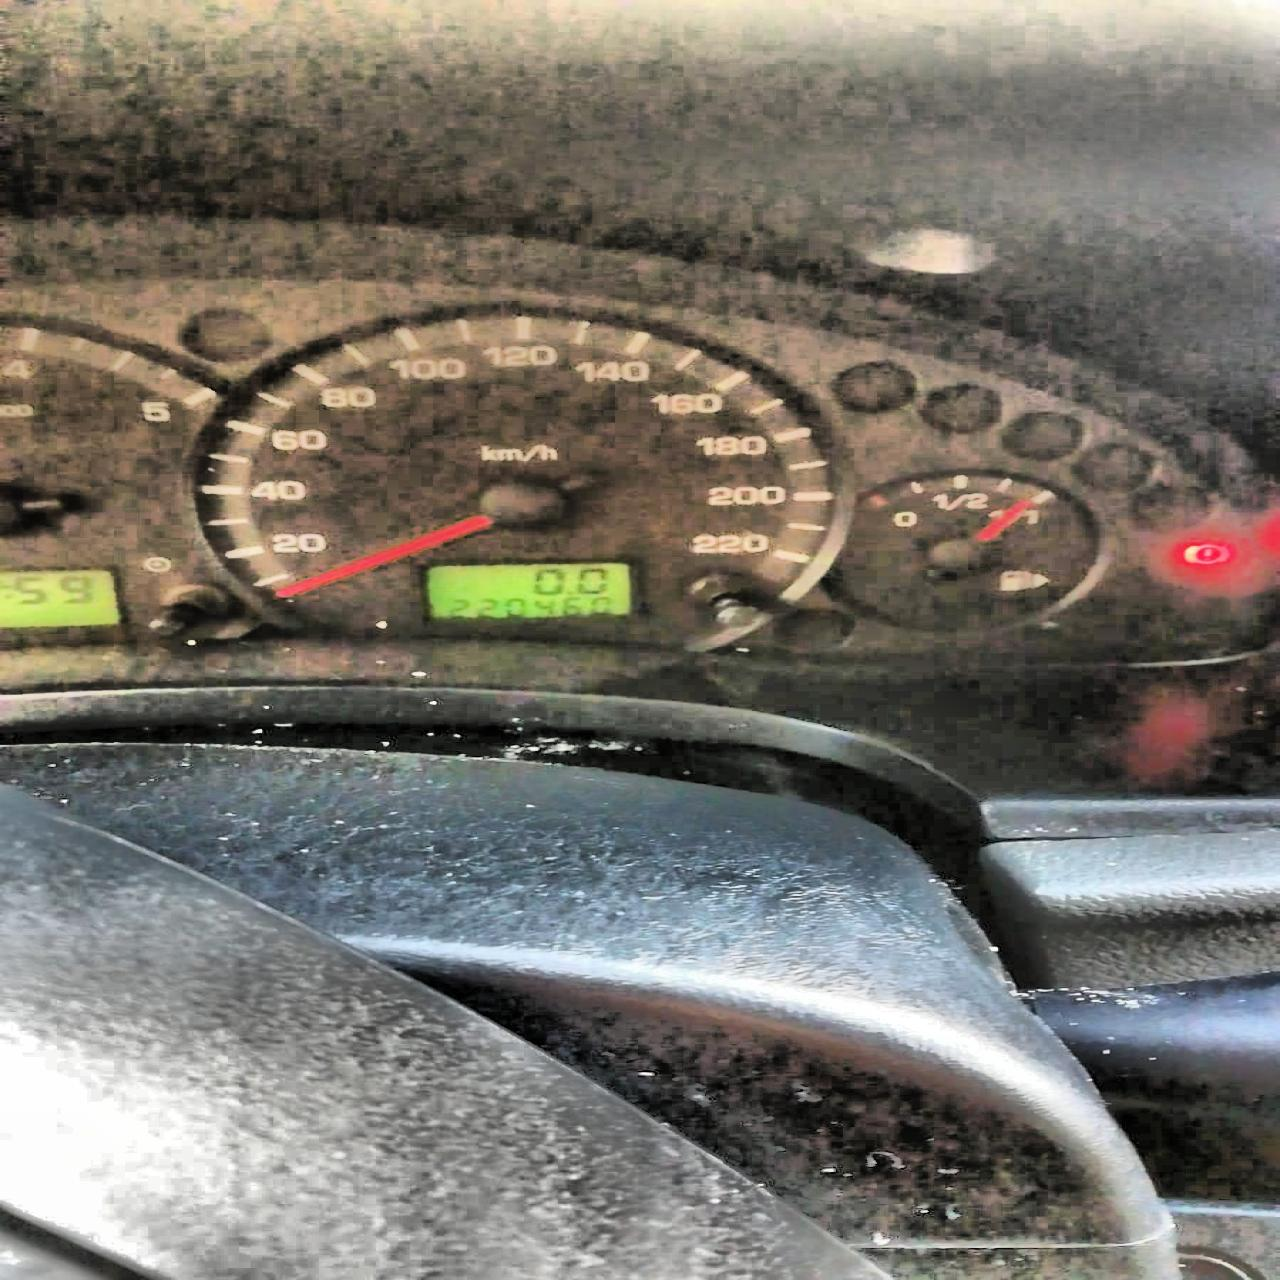-: (565, 590, 573, 594)
0: (532, 567, 564, 594), (577, 567, 608, 593), (587, 595, 610, 615), (504, 598, 524, 617)
2: (448, 598, 469, 618), (476, 598, 498, 617)
4: (531, 597, 554, 617)
6: (563, 597, 583, 615)
odometer: (417, 557, 639, 622)
